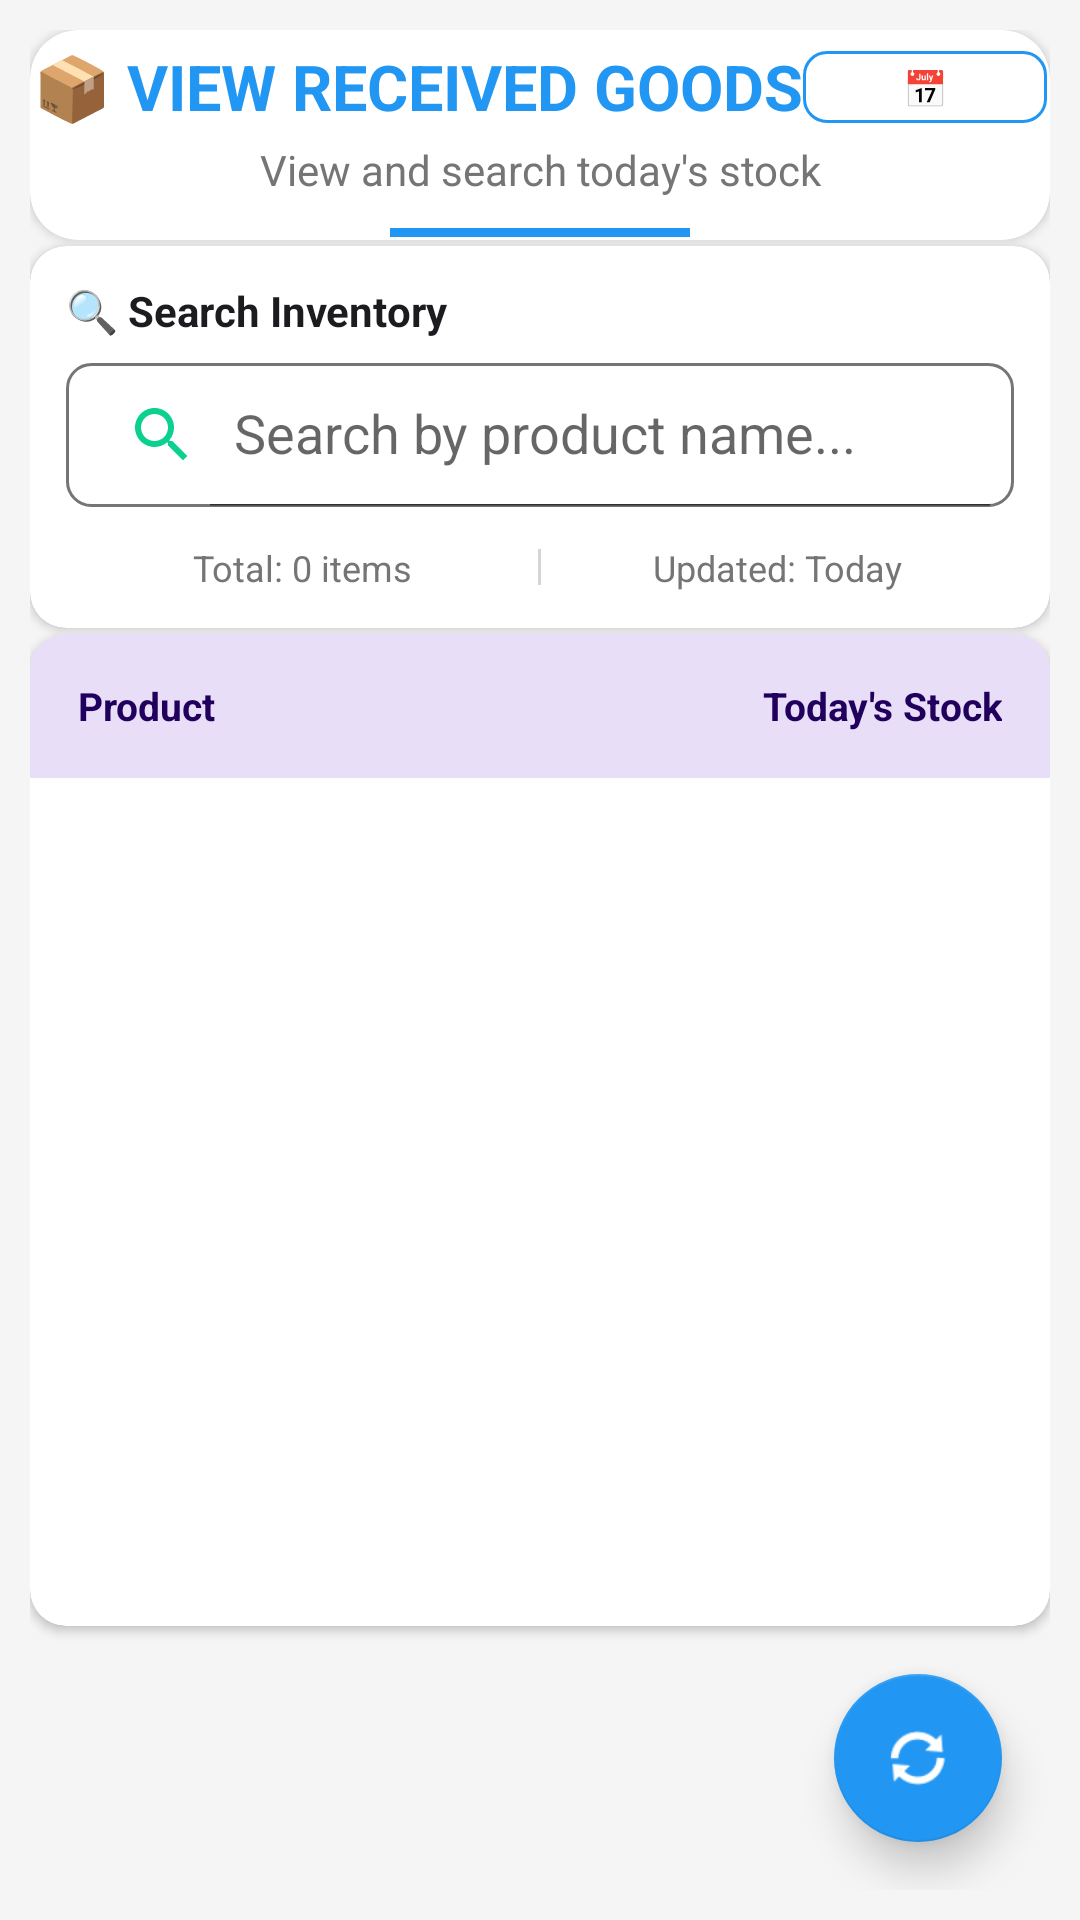

Icon click points for this 1080w x 1920h phone screenshot, format point (x, y):
popup sync: point (918, 1758)
